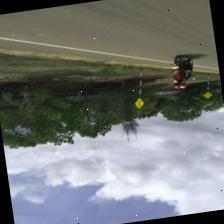yellowboard: (134, 98, 144, 107)
